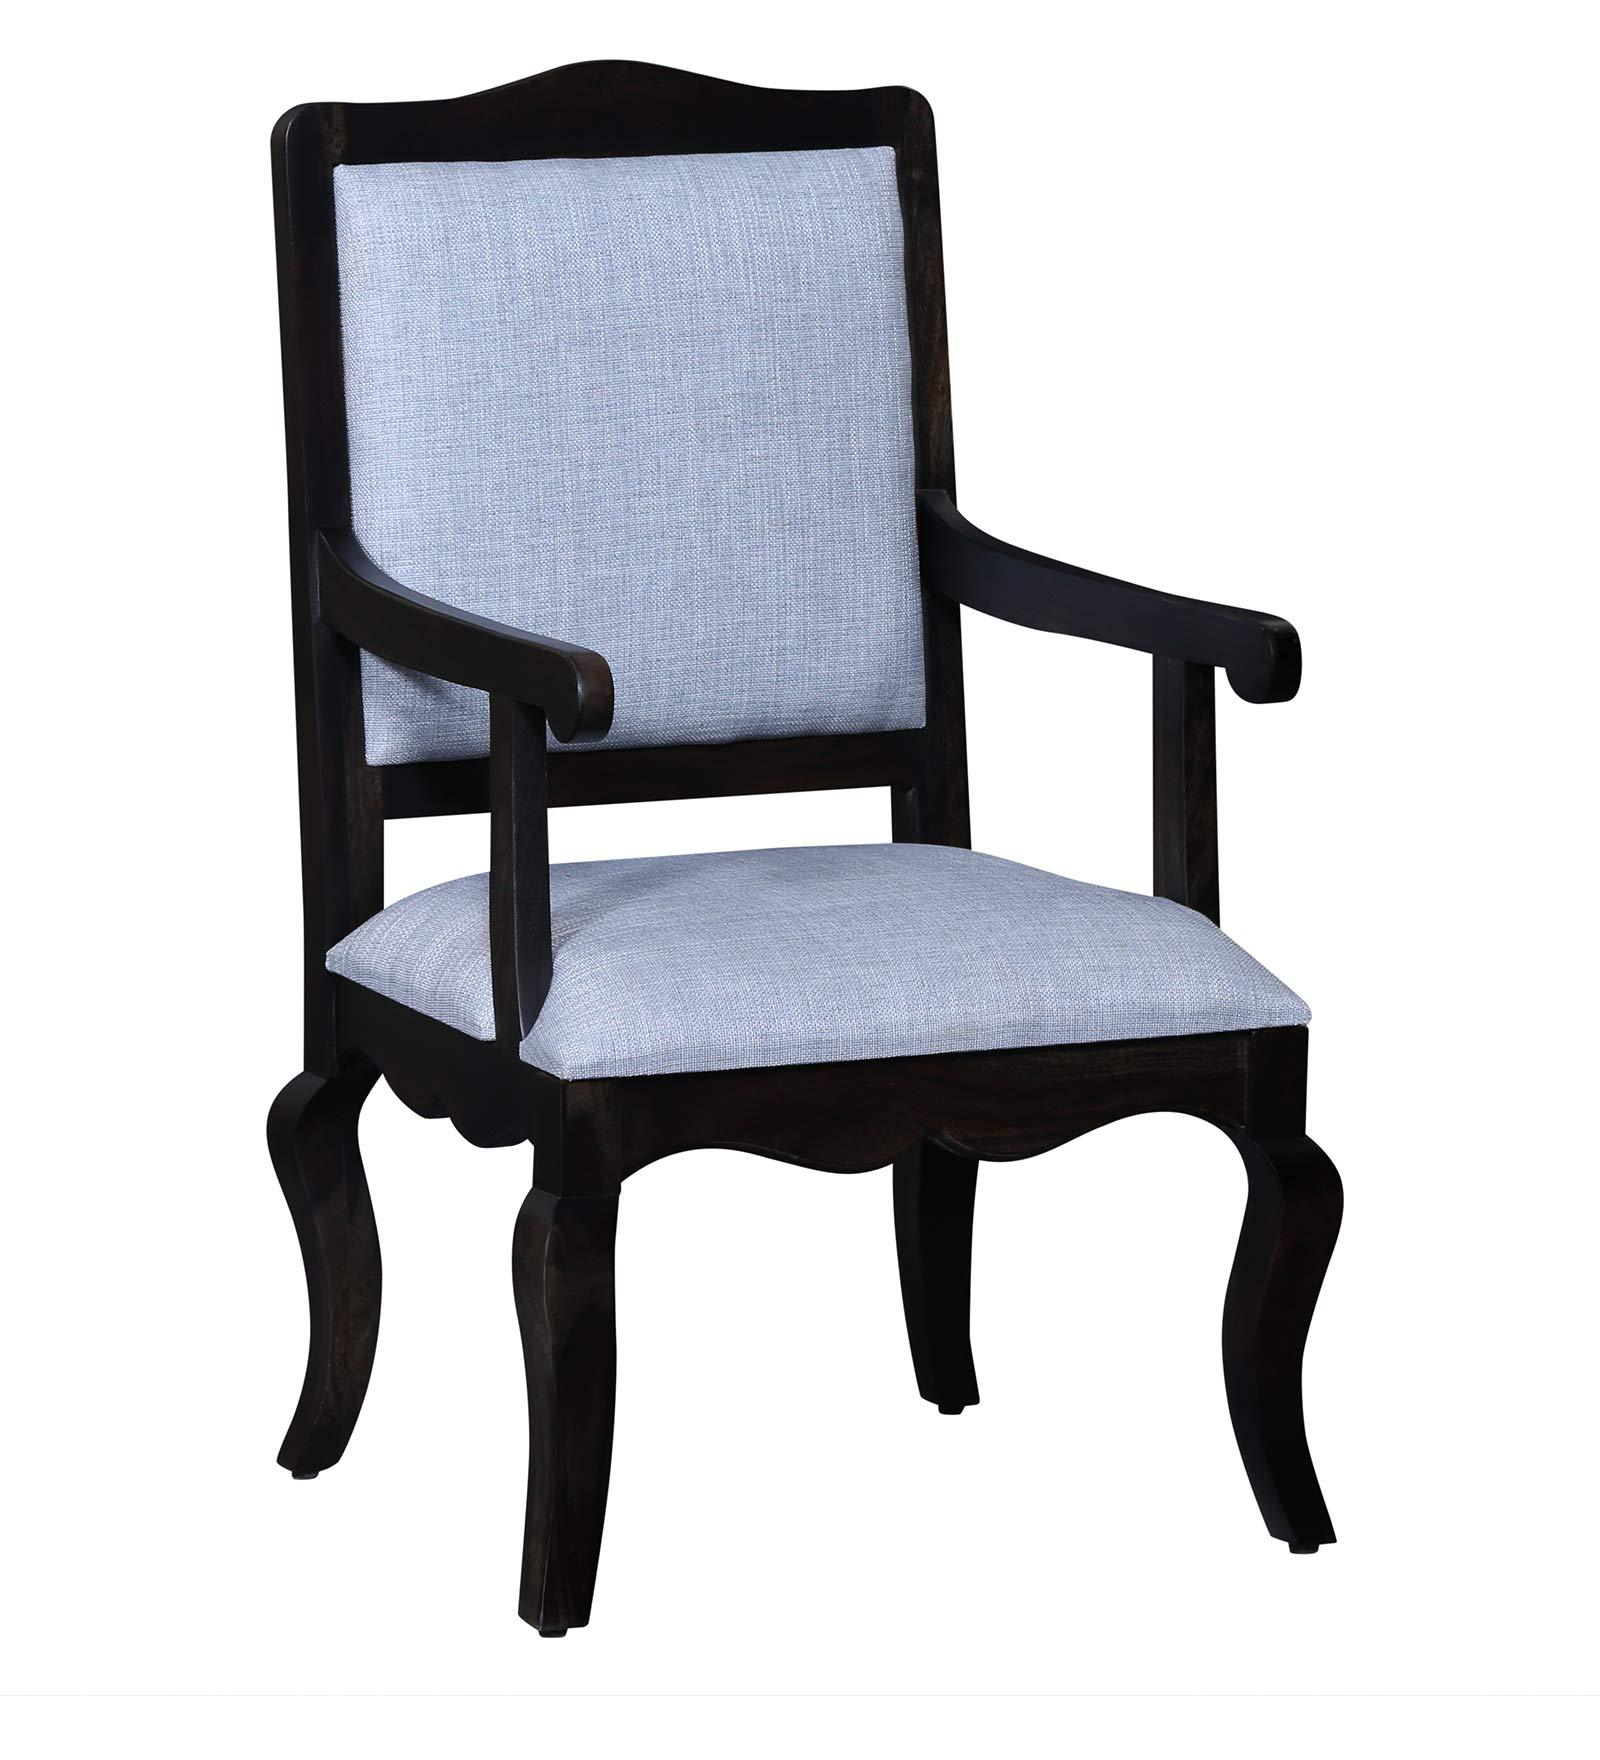Anne Arm Chair in Warm Chestnut Finish by Amberville: (159, 55, 1376, 1660)
